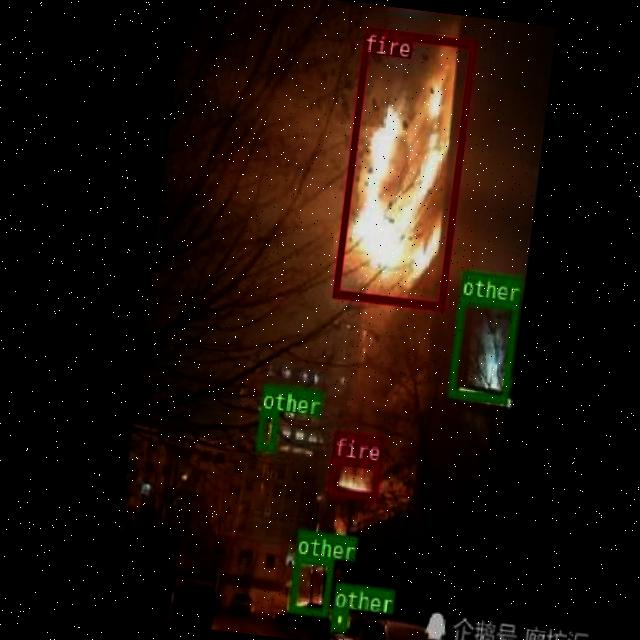fire: (332, 26, 475, 309), (326, 454, 379, 498)
